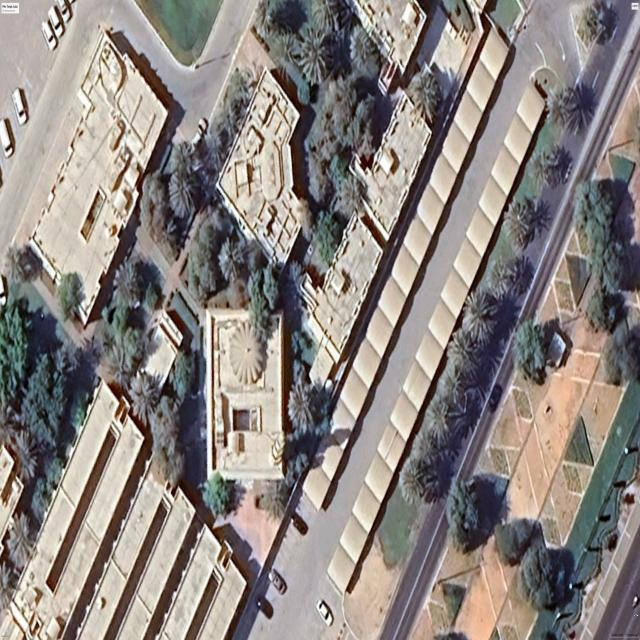mosque: (204, 308, 285, 480)
